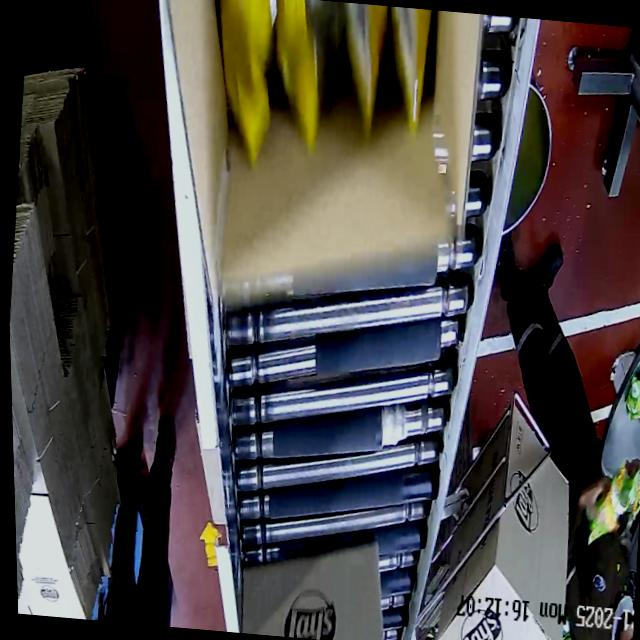SALTED: (215, 0, 457, 186)
